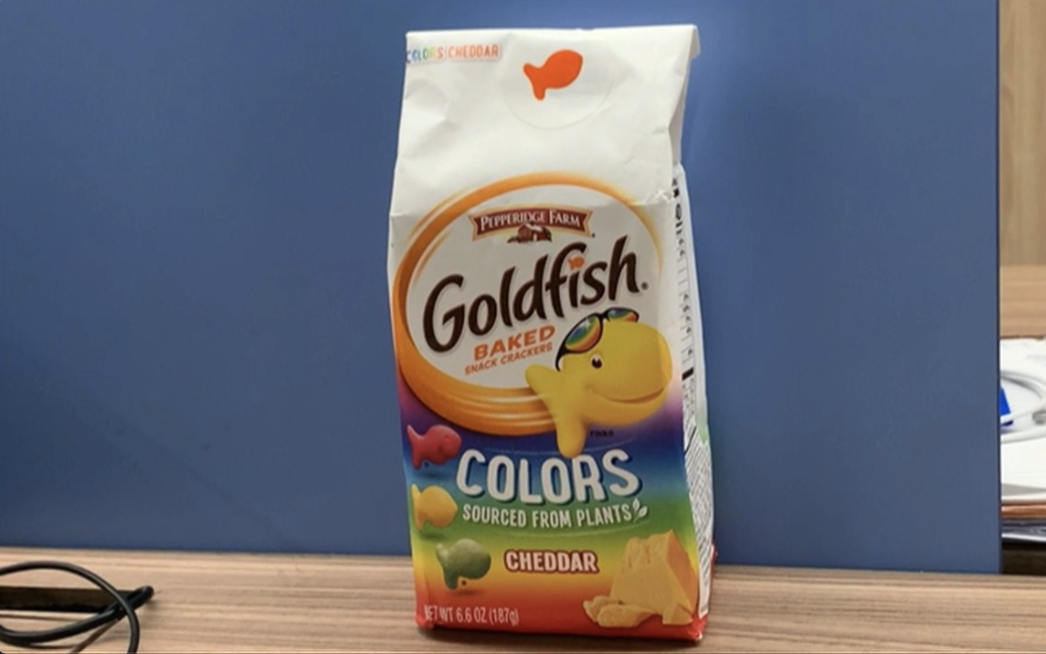crackers_100g-199g: (408, 49, 703, 632)
